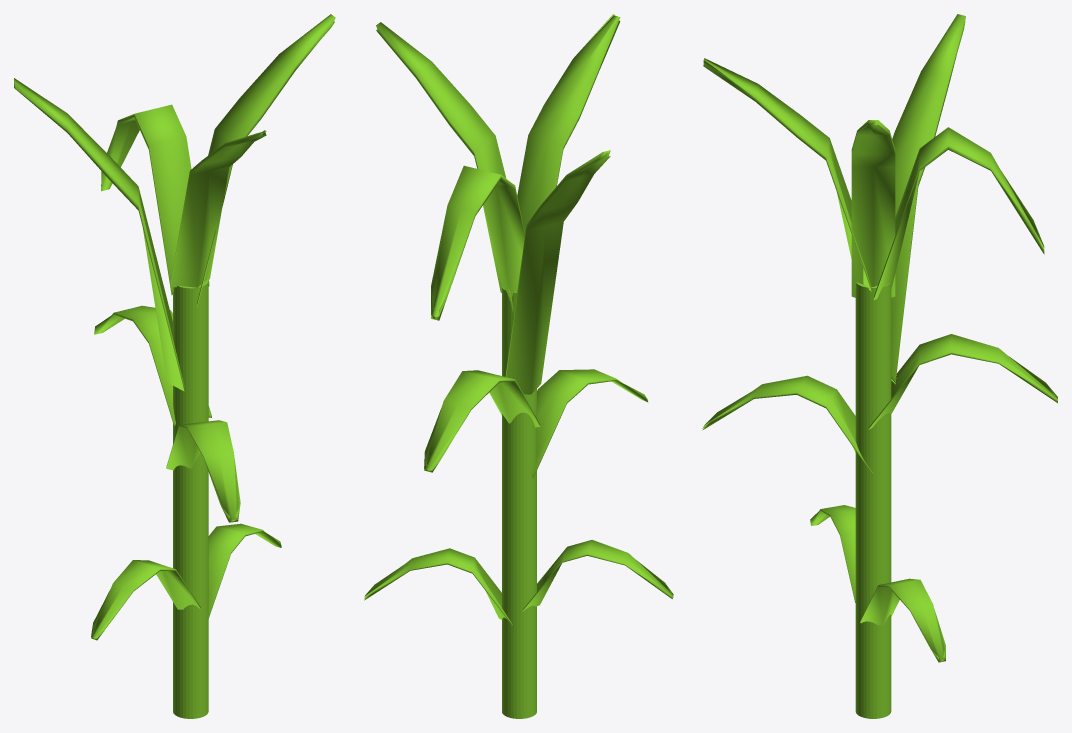
Rendered from maizeplant.dae.
The picture shows the model from 3 angles, left to right: view 1: azimuth 30°, elevation 25°; view 2: azimuth 150°, elevation 25°; view 3: azimuth 270°, elevation 25°; orthographic projection.
Visible parts, largest first — view 1: Plane_008; view 2: Plane_008; view 3: Plane_008.
Part boxes in pixels (<box>): Plane_008: <box>14,14,335,718</box>; Plane_008: <box>364,14,673,718</box>; Plane_008: <box>702,14,1057,718</box>.
Size of the model in its own units: 0.2695 by 0.2994 by 0.6138.
